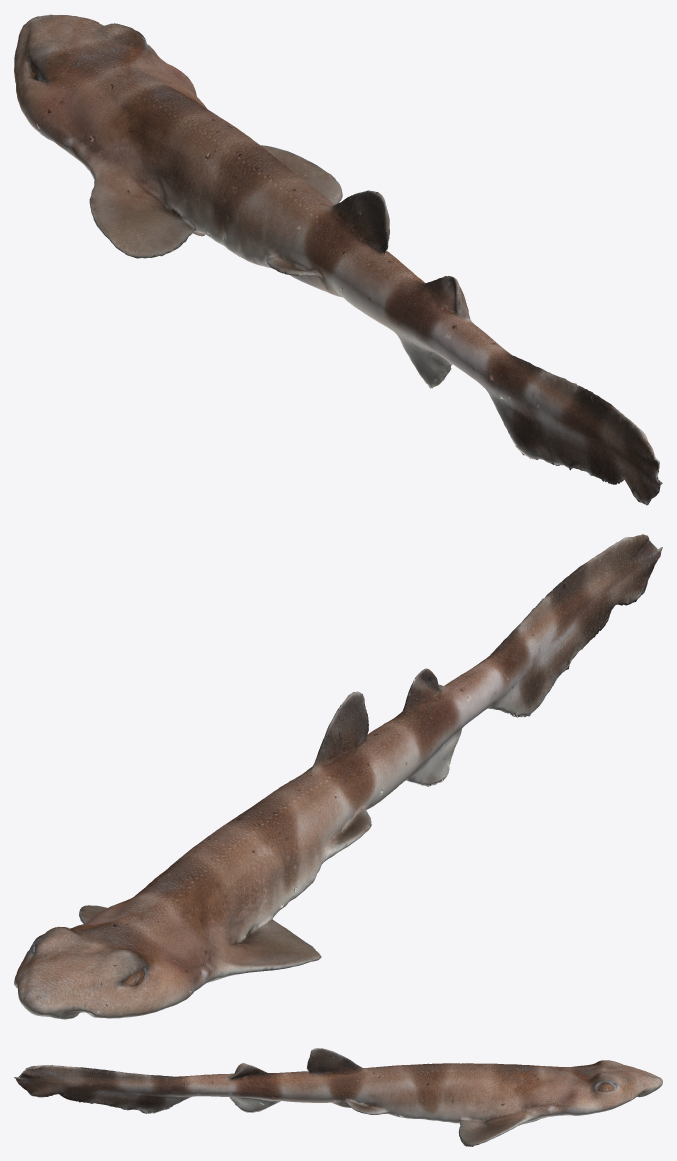
The model's file is swell_shark.glb.
The picture shows the model from 3 angles, top to bottom: view 1: azimuth 30°, elevation 25°; view 2: azimuth 150°, elevation 25°; view 3: azimuth 270°, elevation 25°; orthographic projection. The views are drawn at different scales.
Parts seen in each view (by area): view 1: swell_shark; view 2: swell_shark; view 3: swell_shark.
Part boxes in pixels (left/top/right/bottom): swell_shark: left=14, top=14, right=662, bottom=505; swell_shark: left=14, top=534, right=662, bottom=1019; swell_shark: left=14, top=1048, right=662, bottom=1146.
Size of the model in its own units: 0.0841 by 0.0508 by 0.4.
Materials: 1 (1 with a texture image).
